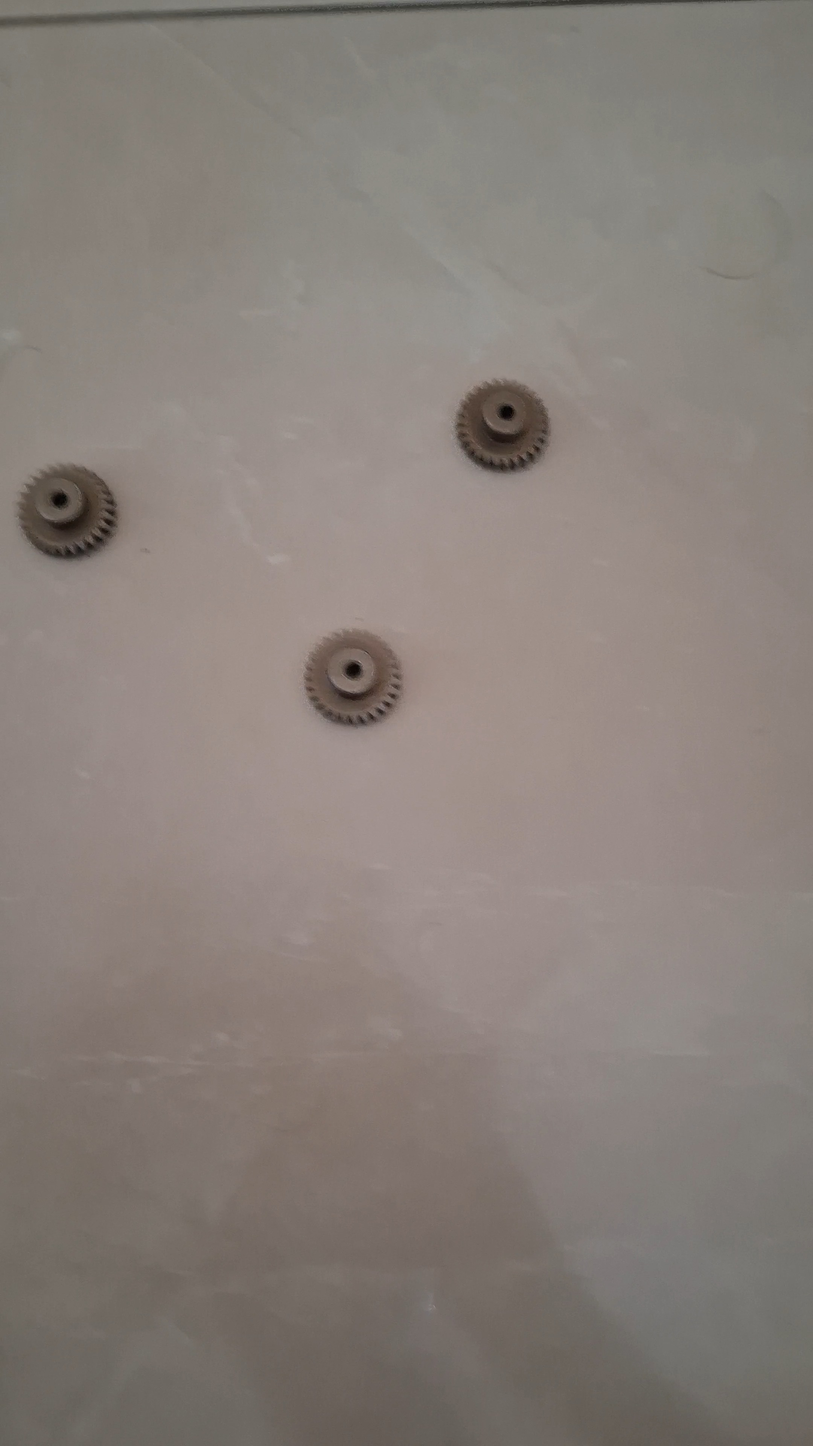spur gear: (304, 630, 402, 725), (18, 464, 117, 557), (455, 381, 549, 470)
